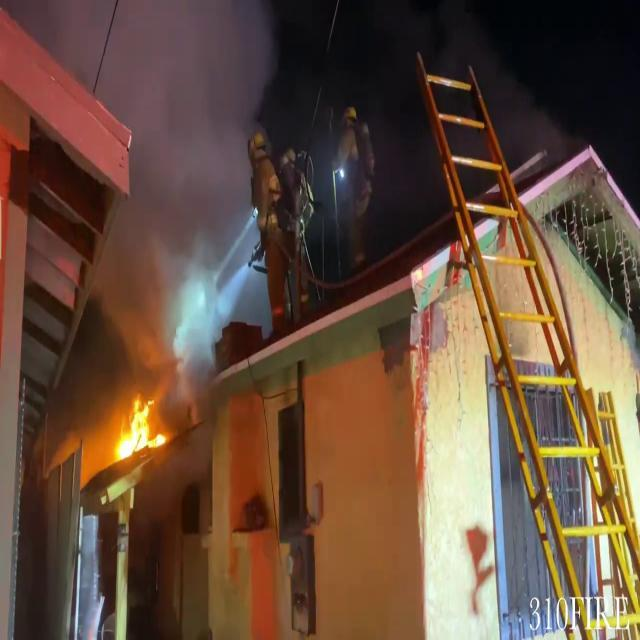Fire: (104, 392, 174, 455)
Smoke: (79, 0, 280, 386)
